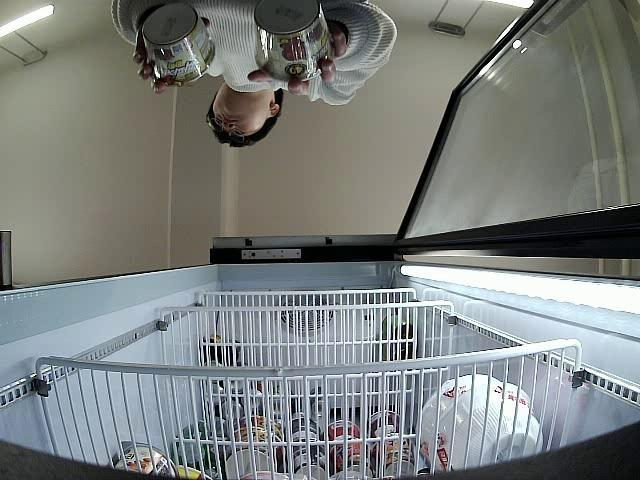04_chapagetti_S: (252, 0, 333, 79), (142, 0, 216, 82)
